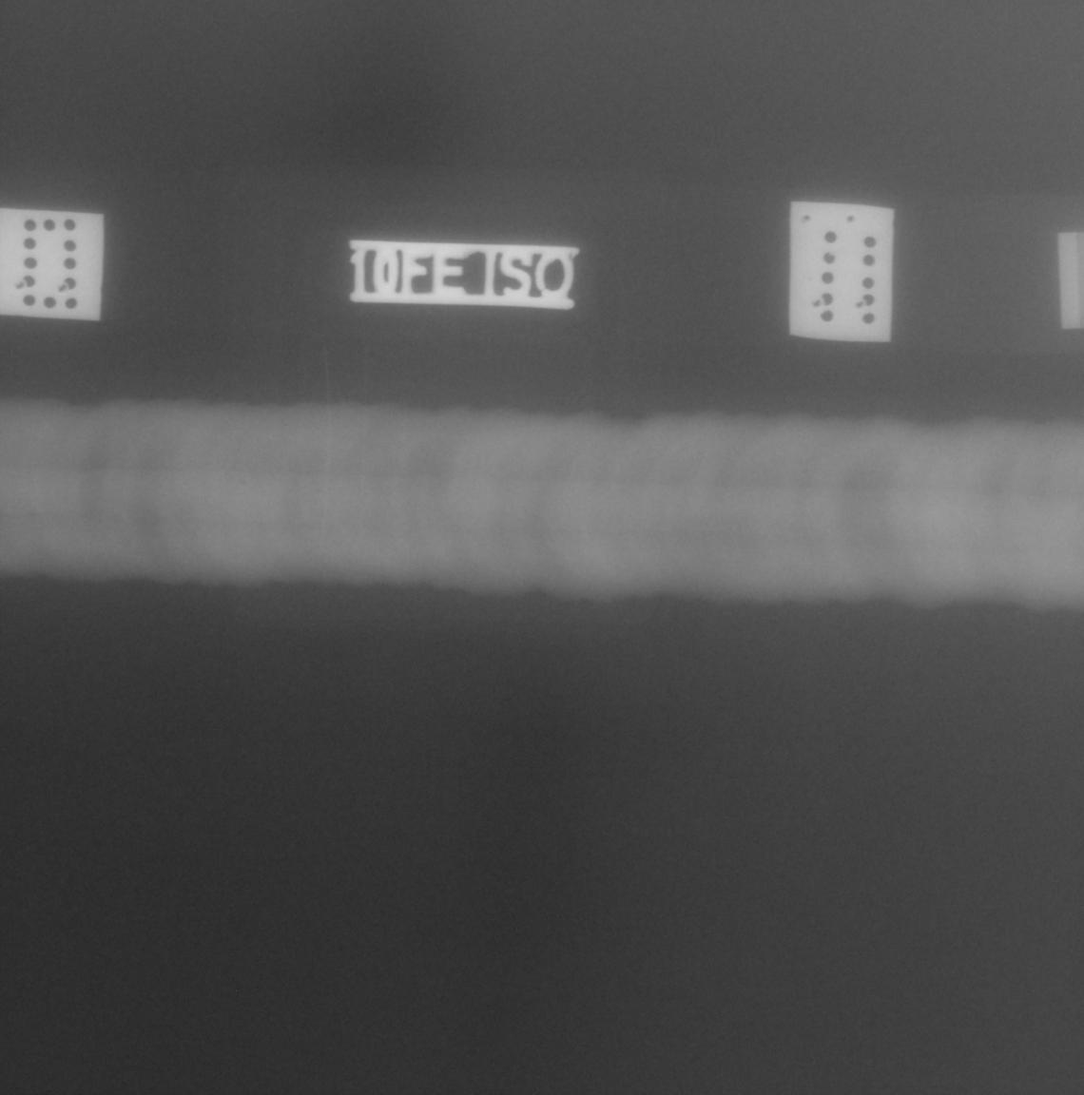Pore/Porosity: (25, 511, 32, 516), (241, 480, 247, 485)
